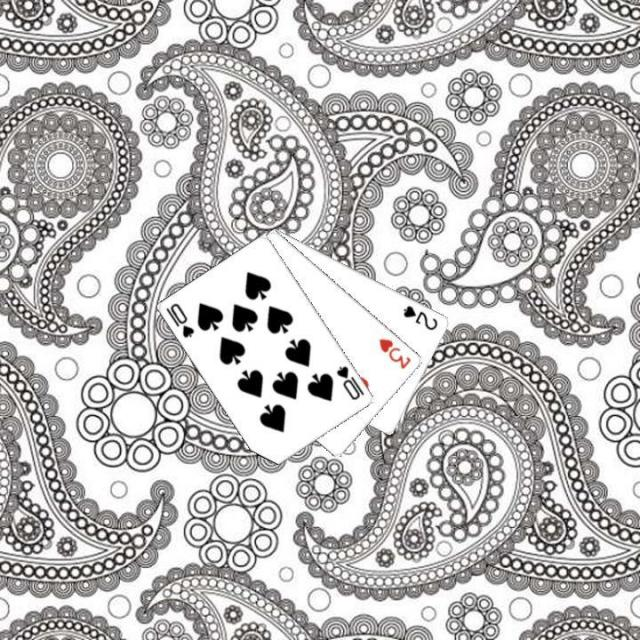10S: (332, 362, 367, 402), (162, 298, 196, 339)
2S: (399, 302, 440, 332)
3H: (375, 334, 413, 371)
